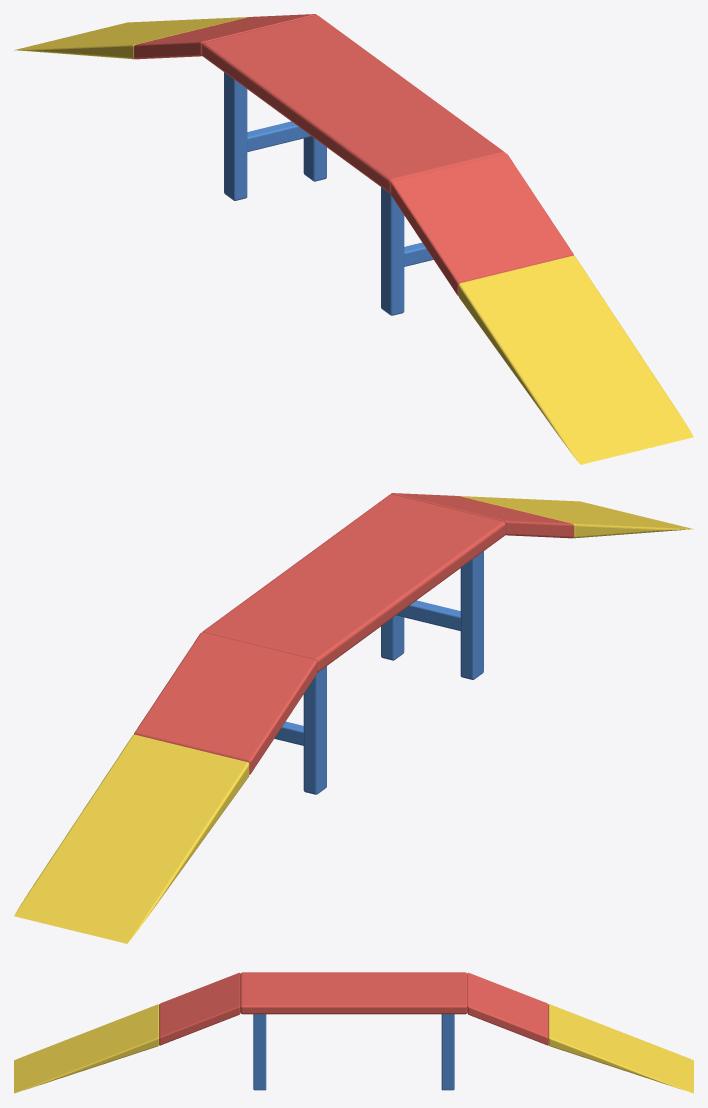
The model's file is Agility_DogWalk_Solid.fbx.
The picture shows the model from 3 angles, top to bottom: view 1: azimuth 30°, elevation 25°; view 2: azimuth 150°, elevation 25°; view 3: azimuth 270°, elevation 25°; orthographic projection. The views are drawn at different scales.
Parts seen in each view (by area): view 1: DogWalk; view 2: DogWalk; view 3: DogWalk.
Boxes of the visible parts, left/top/right/bottom form: DogWalk: left=14, top=14, right=693, bottom=464; DogWalk: left=14, top=493, right=693, bottom=943; DogWalk: left=14, top=972, right=693, bottom=1093.
Bounding box in the file's own units: 50 × 60 × 419.
